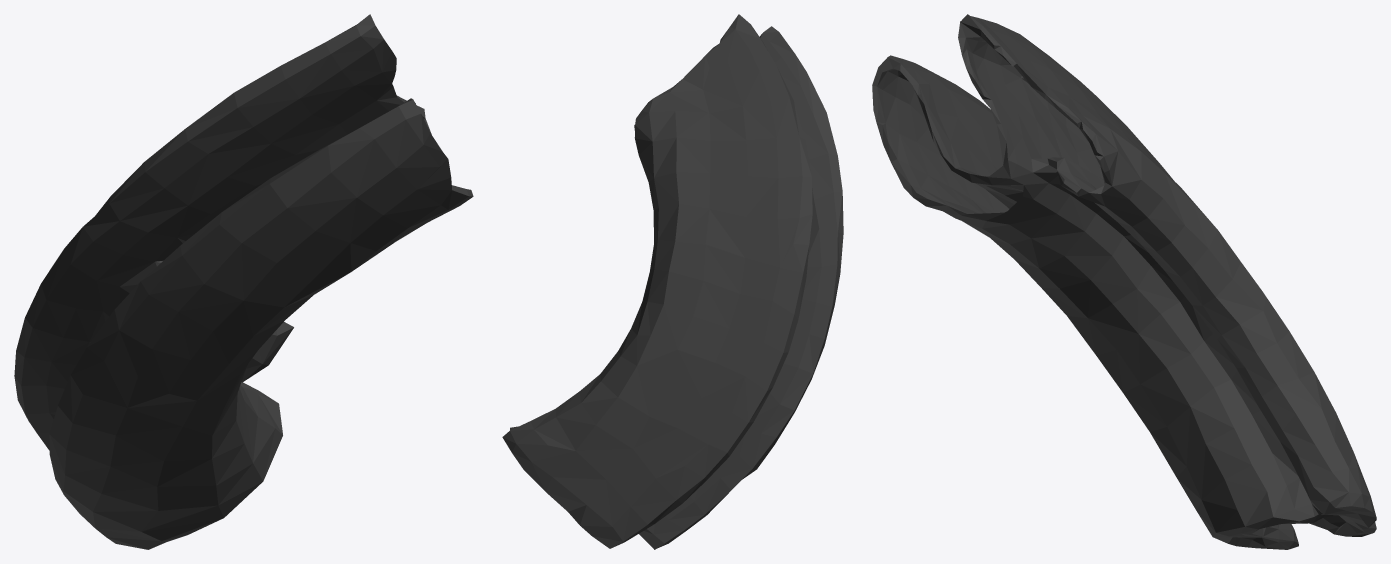
The model's file is Upper_PM_1.glb.
3 views of the same model, side by side, from view 1: azimuth 30°, elevation 25°; view 2: azimuth 150°, elevation 25°; view 3: azimuth 270°, elevation 25° (orthographic). The views are drawn at different scales.
Parts seen in each view (by area): view 1: Upper_PM_1; view 2: Upper_PM_1; view 3: Upper_PM_1.
Boxes of the visible parts, bbox=[...] form: Upper_PM_1: bbox=[14, 14, 473, 549]; Upper_PM_1: bbox=[502, 14, 843, 549]; Upper_PM_1: bbox=[872, 14, 1376, 549].
Size of the model in its own units: 0.5161 by 0.9222 by 0.7499.
Materials: 1 (1 with a texture image).
